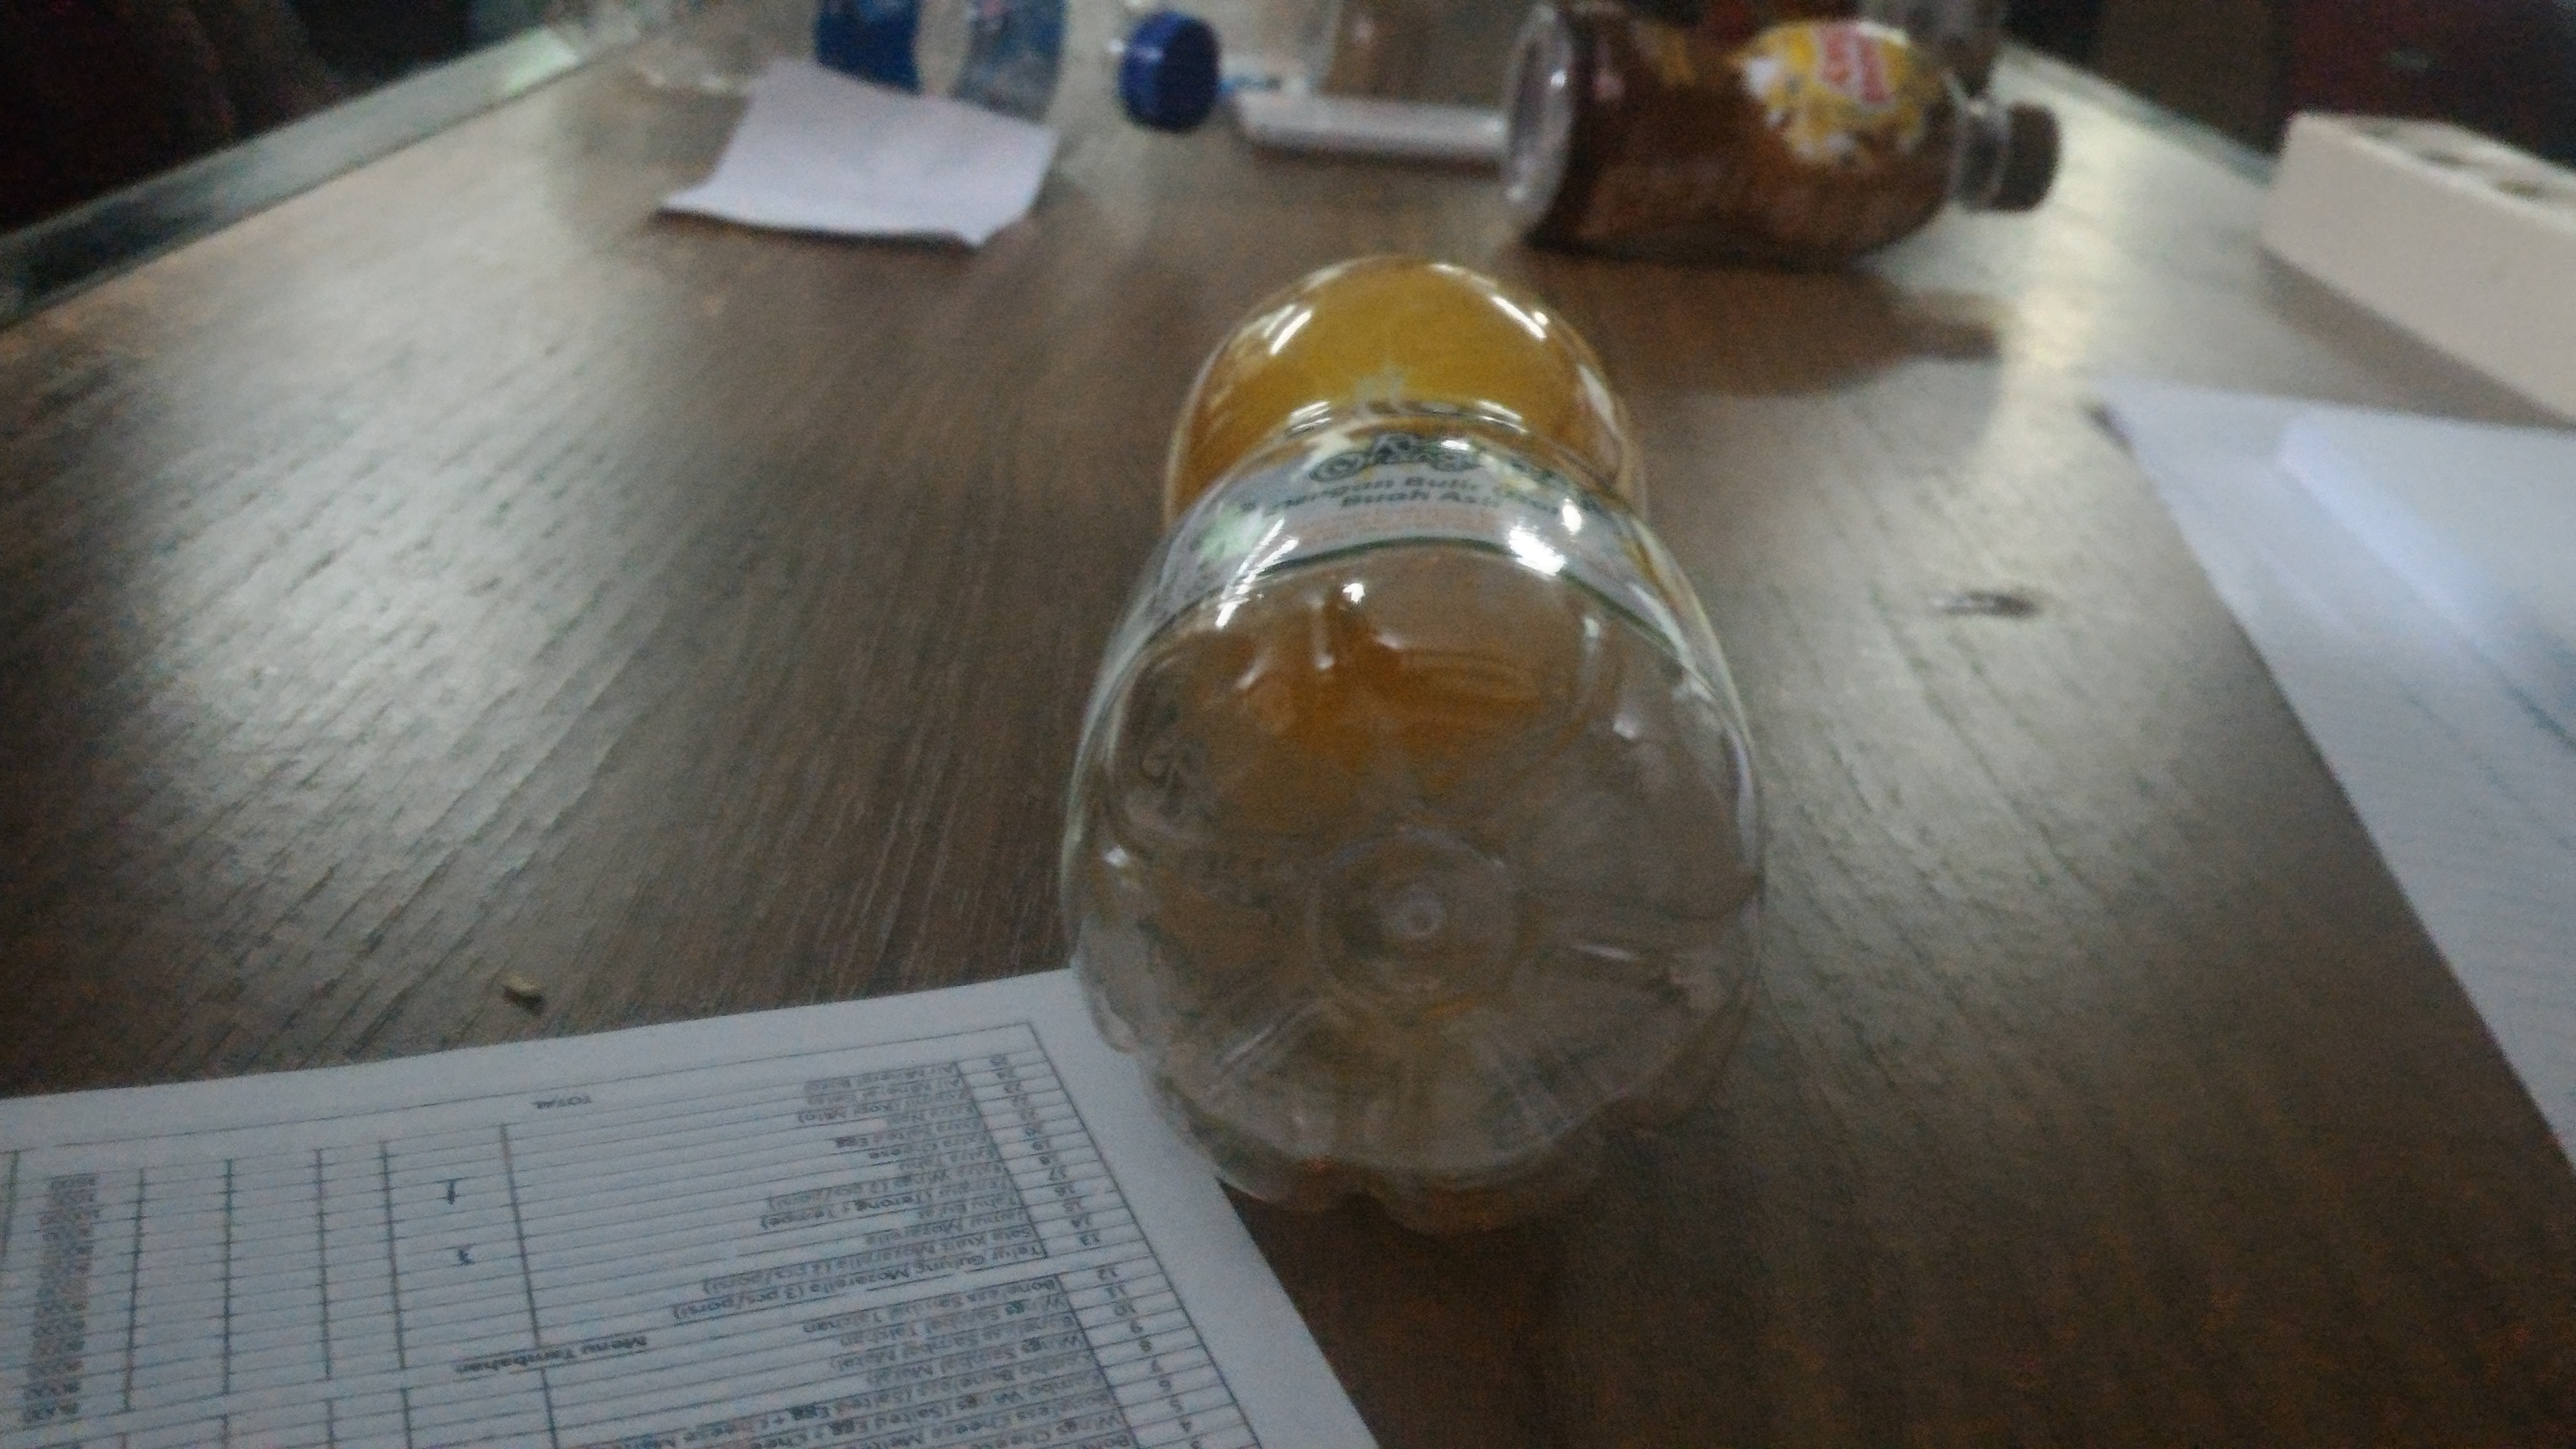botol: (1060, 242, 1766, 1226), (1129, 242, 1766, 1226)
